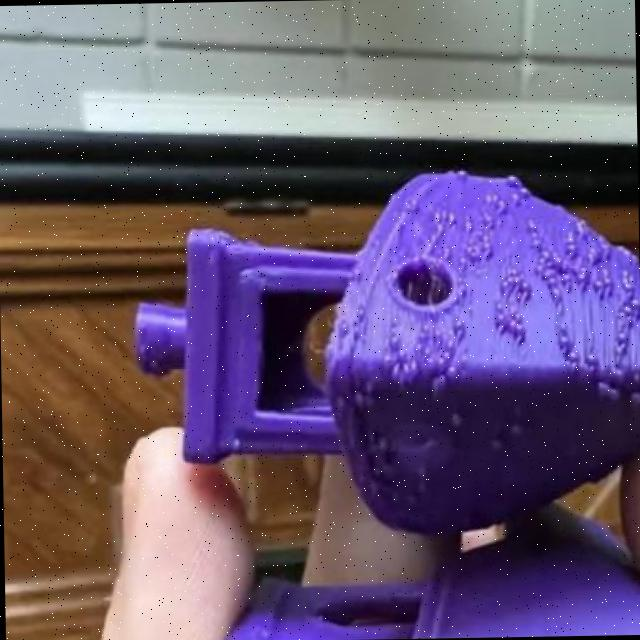blobs: (388, 354, 420, 384), (501, 314, 526, 348), (446, 406, 472, 436), (423, 371, 448, 402), (542, 247, 570, 274), (349, 388, 378, 412), (598, 379, 622, 402), (504, 416, 526, 441), (586, 274, 609, 296), (495, 270, 518, 291), (536, 276, 556, 298), (564, 351, 581, 376), (490, 298, 506, 324), (424, 210, 446, 228), (382, 334, 402, 353), (530, 258, 550, 276), (554, 331, 574, 349), (505, 172, 522, 193), (450, 316, 466, 338), (528, 226, 546, 245), (336, 316, 352, 336), (626, 388, 640, 409), (506, 190, 526, 203), (442, 211, 458, 227), (586, 349, 602, 364)
